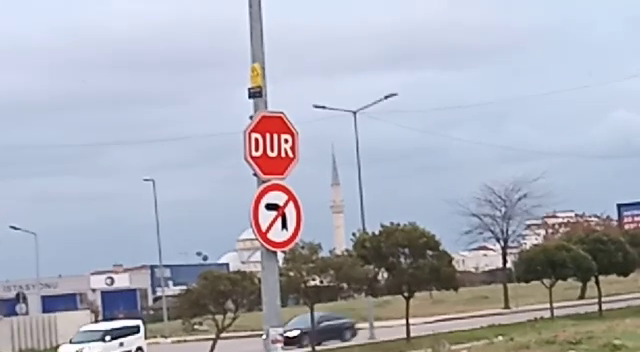no_left: (247, 178, 305, 255)
stop: (241, 107, 302, 182)
